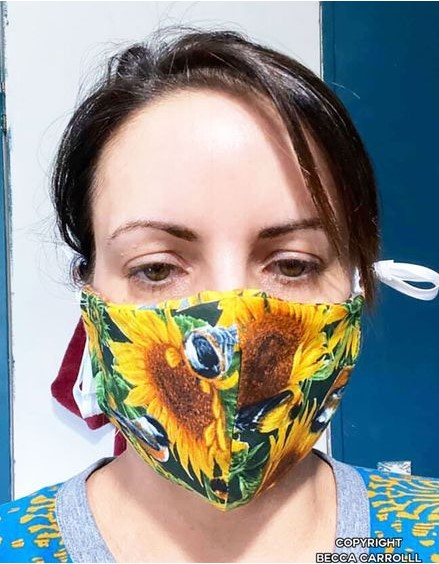face_with_mask: (64, 60, 381, 520)
